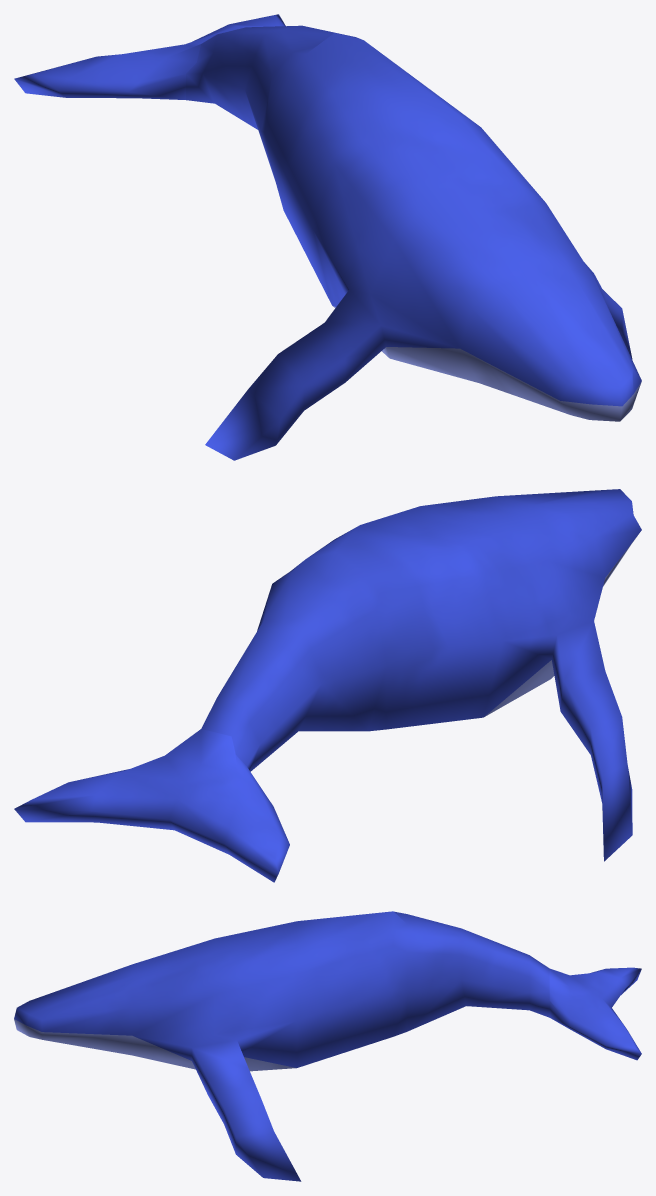
The model's file is SM_Whale.fbx.
The picture shows the model from 3 angles, top to bottom: view 1: azimuth 30°, elevation 25°; view 2: azimuth 150°, elevation 25°; view 3: azimuth 270°, elevation 25°; orthographic projection. The views are drawn at different scales.
Visible parts, largest first — view 1: Whale; view 2: Whale; view 3: Whale.
Part boxes in pixels (x1,y1,x2,y2): Whale: [14, 14, 641, 460]; Whale: [14, 489, 641, 882]; Whale: [14, 911, 641, 1181].
Bounding box in the file's own units: 3.95 × 2.95 × 8.16.
